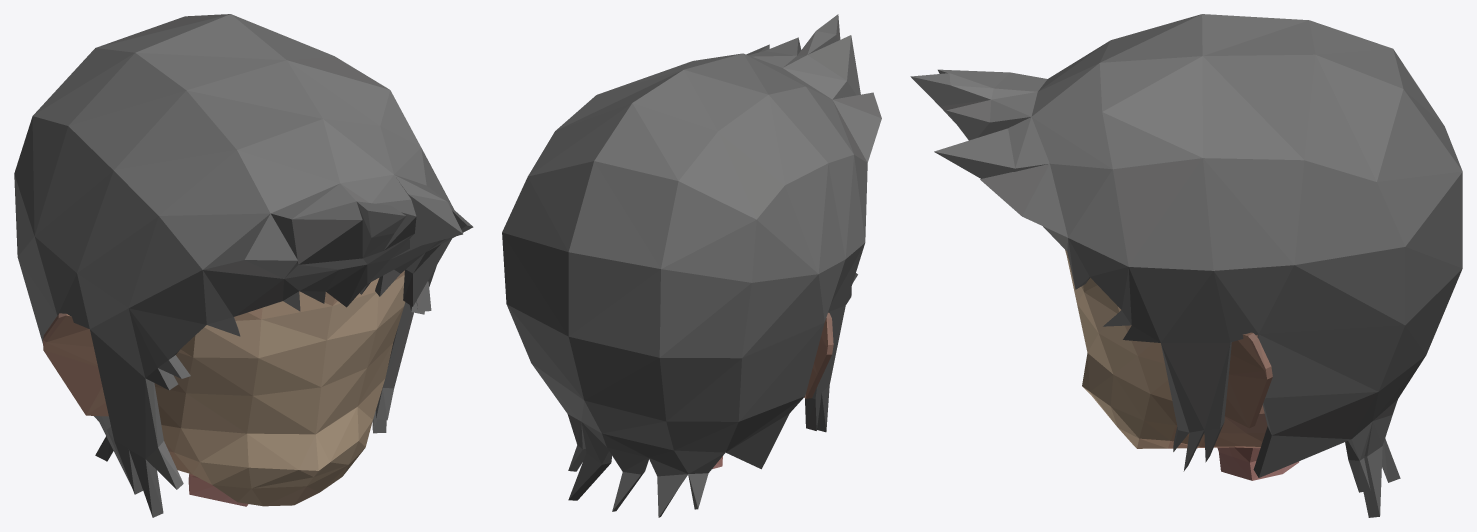
File: helm_lightskin_standard_gray.fbx
3 views of the same model, side by side, from view 1: azimuth 30°, elevation 25°; view 2: azimuth 150°, elevation 25°; view 3: azimuth 270°, elevation 25° (orthographic). The views are drawn at different scales.
Visible parts, largest first — view 1: helm_lightskin_standard_gray; view 2: helm_lightskin_standard_gray; view 3: helm_lightskin_standard_gray.
Boxes of the visible parts, <box> form: helm_lightskin_standard_gray: <box>14,14,473,517</box>; helm_lightskin_standard_gray: <box>502,14,881,517</box>; helm_lightskin_standard_gray: <box>910,14,1462,517</box>.
Bounding box in the file's own units: 1.13 × 1.38 × 1.55.
